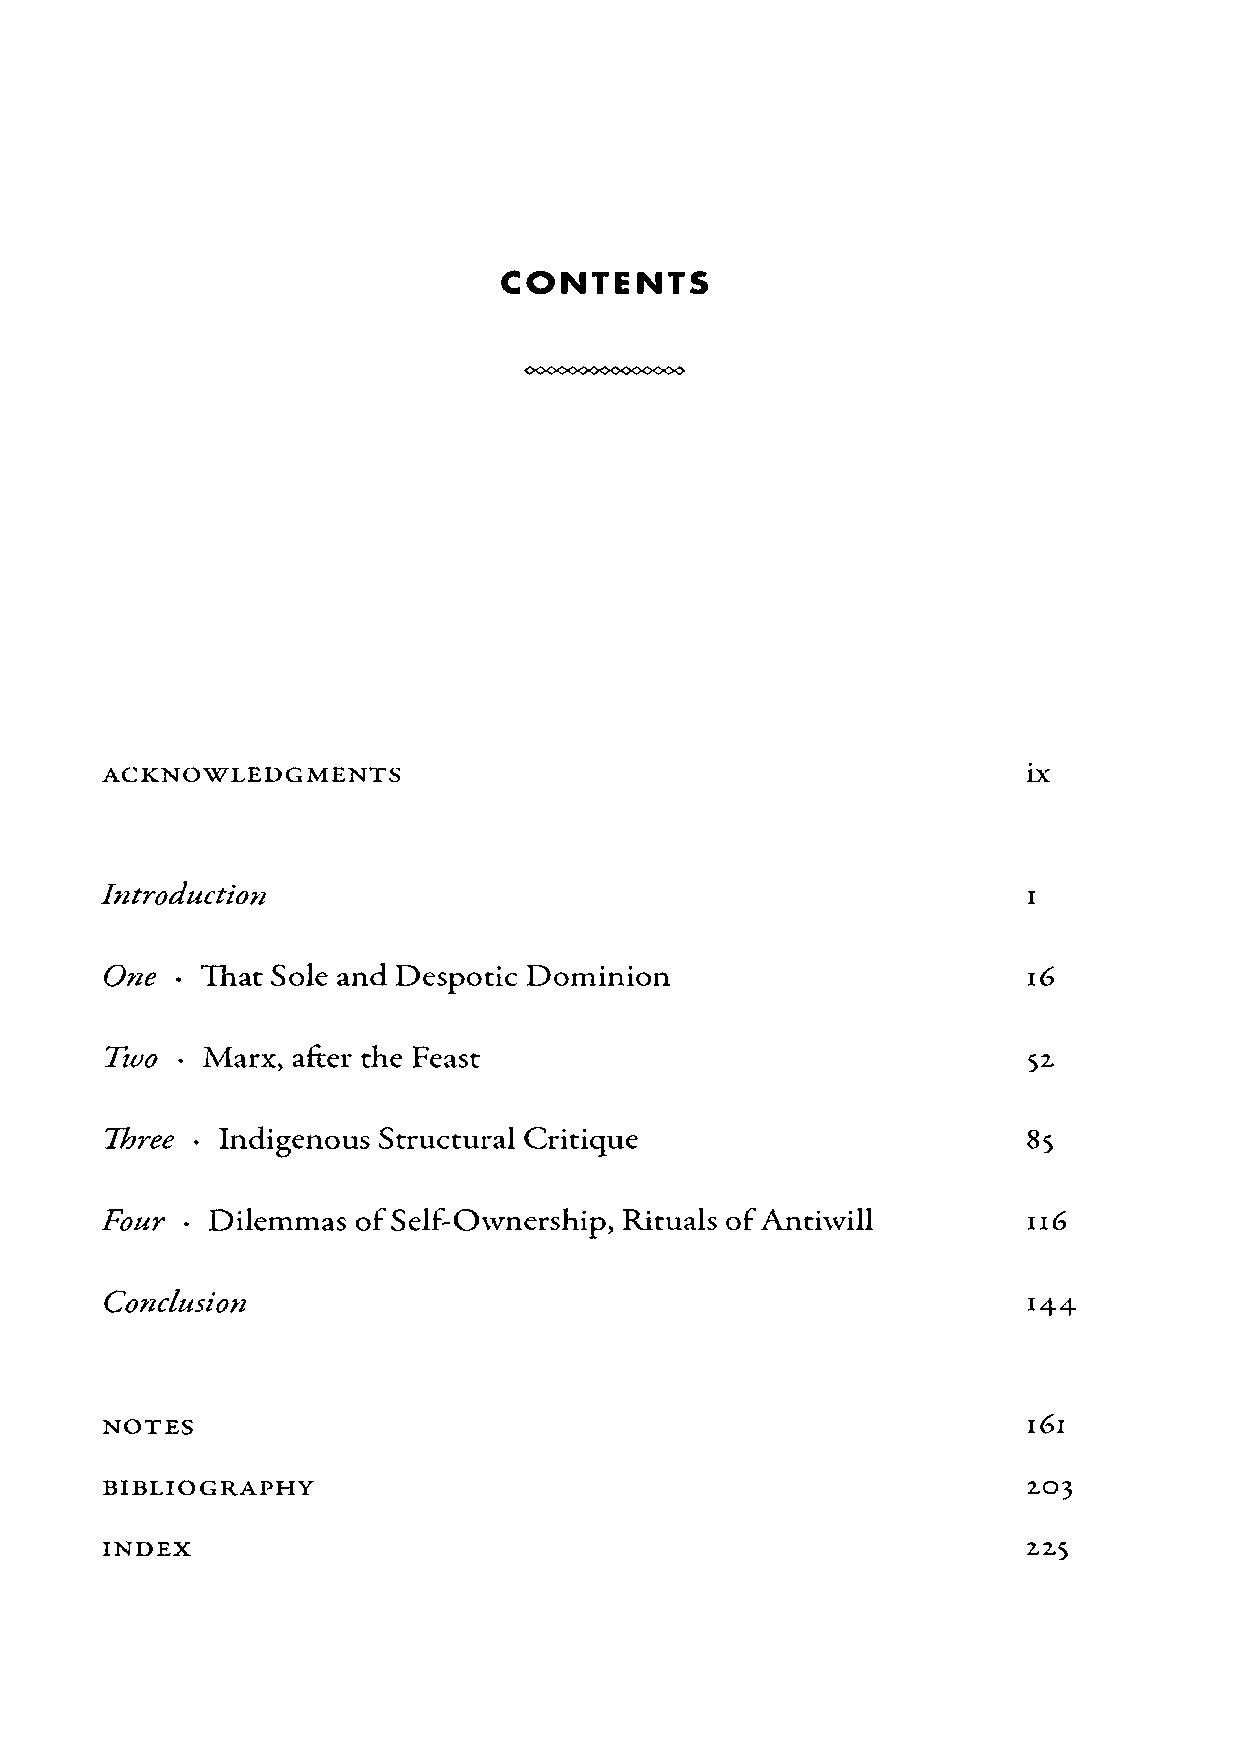TOC_chapter: (103, 1201, 875, 1240), (101, 1122, 637, 1159), (102, 960, 672, 988), (103, 1037, 483, 1072), (101, 761, 404, 785), (102, 1472, 314, 1496), (102, 1282, 248, 1317), (103, 878, 268, 907), (98, 1534, 193, 1558), (98, 1414, 193, 1436)
TOC_pagenumber: (1023, 1471, 1075, 1503), (1023, 1533, 1074, 1563), (1021, 1290, 1076, 1318), (1020, 1408, 1068, 1437), (1017, 1208, 1070, 1229), (1027, 1122, 1056, 1157), (1024, 958, 1056, 988), (1024, 1047, 1053, 1075), (1021, 758, 1053, 784), (1024, 884, 1041, 906)
chapter: (491, 262, 713, 297)
